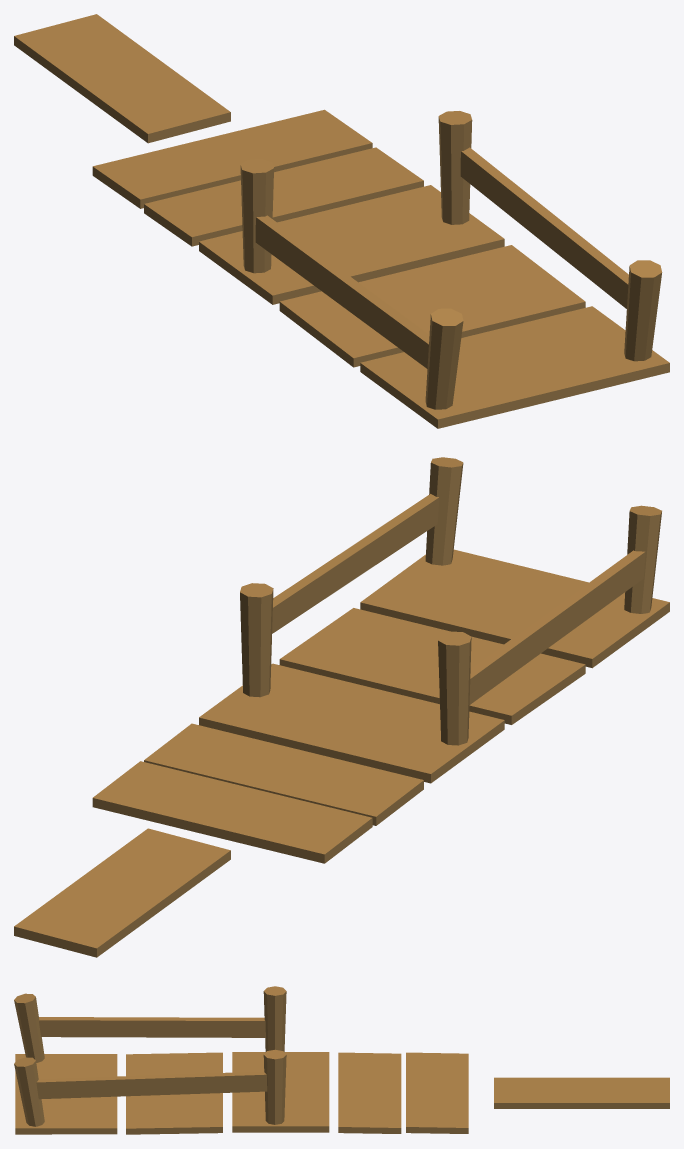
The model's file is Bridge_ship.fbx.
The picture shows the model from 3 angles, top to bottom: view 1: azimuth 30°, elevation 25°; view 2: azimuth 150°, elevation 25°; view 3: azimuth 270°, elevation 25°; orthographic projection. The views are drawn at different scales.
Parts seen in each view (by area): view 1: Bridge_ship, Bridge_ship.001; view 2: Bridge_ship, Bridge_ship.001; view 3: Bridge_ship, Bridge_ship.001.
Boxes of the visible parts, left/top/right/bottom form: Bridge_ship: left=92, top=109, right=669, bottom=428; Bridge_ship.001: left=14, top=14, right=230, bottom=143; Bridge_ship: left=92, top=457, right=669, bottom=863; Bridge_ship.001: left=14, top=828, right=230, bottom=957; Bridge_ship: left=14, top=986, right=468, bottom=1134; Bridge_ship.001: left=494, top=1077, right=669, bottom=1108.
Size of the model in its own units: 65.75 by 30.85 by 245.
